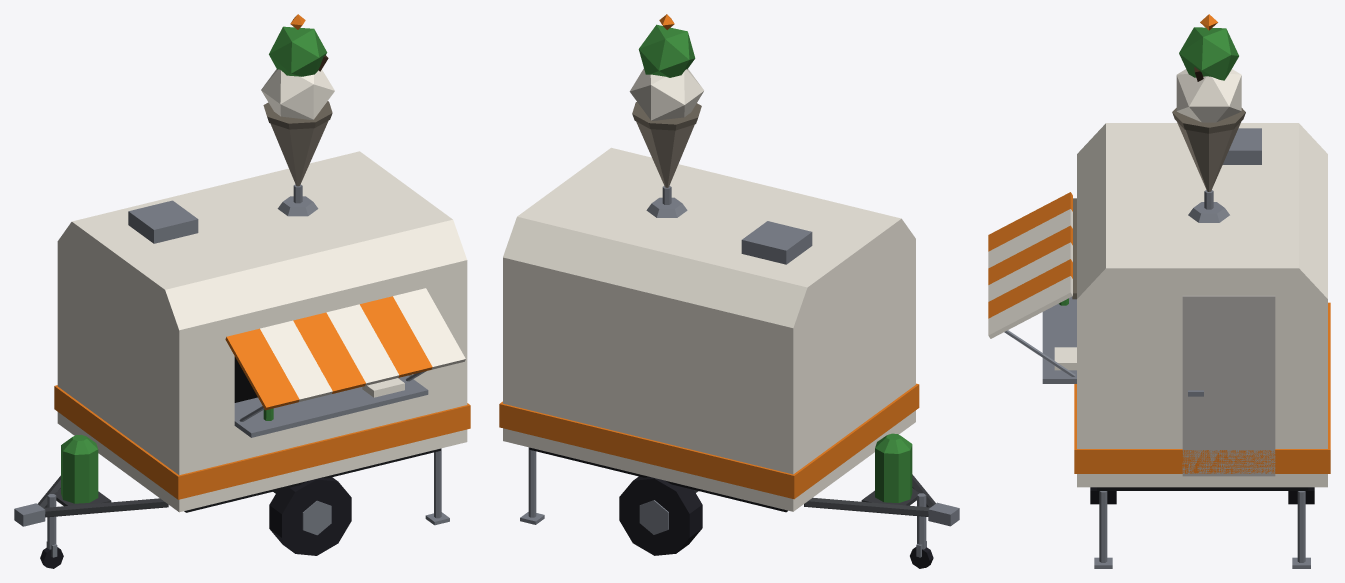
File: FoodStall03.fbx
3 views of the same model, side by side, from view 1: azimuth 30°, elevation 25°; view 2: azimuth 150°, elevation 25°; view 3: azimuth 270°, elevation 25° (orthographic). The views are drawn at different scales.
Parts seen in each view (by area): view 1: FoodStall03_Festival_F2EDE2, FoodStall03_Festival_ED7E1D, FoodStall03_Festival_7D828C, FoodStall03_Festival_3A883A, FoodStall03_Festival_1B1B22, FoodStall03_Festival_3A3C40, FoodStall03_Festival_988E81, FoodStall03_Festival_70685C, FoodStall03_Festival_151619, FoodStall03_Festival_090A0B; view 2: FoodStall03_Festival_F2EDE2, FoodStall03_Festival_ED7E1D, FoodStall03_Festival_7D828C, FoodStall03_Festival_1B1B22, FoodStall03_Festival_3A883A, FoodStall03_Festival_3A3C40, FoodStall03_Festival_988E81, FoodStall03_Festival_70685C, FoodStall03_Festival_151619; view 3: FoodStall03_Festival_F2EDE2, FoodStall03_Festival_B6B3AF, FoodStall03_Festival_ED7E1D, FoodStall03_Festival_7D828C, FoodStall03_Festival_3A883A, FoodStall03_Festival_988E81, FoodStall03_Festival_70685C, FoodStall03_Festival_151619, FoodStall03_Festival_1B1B22.
Part boxes in pixels (x1,y1,x2,y2): FoodStall03_Festival_F2EDE2: (57,69,467,512); FoodStall03_Festival_ED7E1D: (54,14,470,499); FoodStall03_Festival_7D828C: (14,184,449,557); FoodStall03_Festival_3A883A: (61,26,327,503); FoodStall03_Festival_1B1B22: (40,477,351,568); FoodStall03_Festival_3A3C40: (38,475,277,517); FoodStall03_Festival_988E81: (270,120,328,186); FoodStall03_Festival_70685C: (263,101,332,129); FoodStall03_Festival_151619: (184,448,440,512); FoodStall03_Festival_090A0B: (234,356,257,402); FoodStall03_Festival_F2EDE2: (503,68,915,511); FoodStall03_Festival_ED7E1D: (499,14,919,499); FoodStall03_Festival_7D828C: (520,185,959,557); FoodStall03_Festival_1B1B22: (619,476,933,568); FoodStall03_Festival_3A883A: (638,24,912,502); FoodStall03_Festival_3A3C40: (694,474,935,516); FoodStall03_Festival_988E81: (636,121,694,187); FoodStall03_Festival_70685C: (632,102,701,130); FoodStall03_Festival_151619: (529,447,787,512); FoodStall03_Festival_F2EDE2: (988,69,1327,487); FoodStall03_Festival_B6B3AF: (1182,295,1275,476); FoodStall03_Festival_ED7E1D: (988,14,1330,473); FoodStall03_Festival_7D828C: (1004,128,1310,568); FoodStall03_Festival_3A883A: (1059,27,1238,305); FoodStall03_Festival_988E81: (1177,122,1240,191); FoodStall03_Festival_70685C: (1072,108,1245,299); FoodStall03_Festival_151619: (1097,487,1308,490); FoodStall03_Festival_1B1B22: (1090,487,1314,504).
Bounding box in the file's own units: 3.55 × 4.23 × 2.59.
